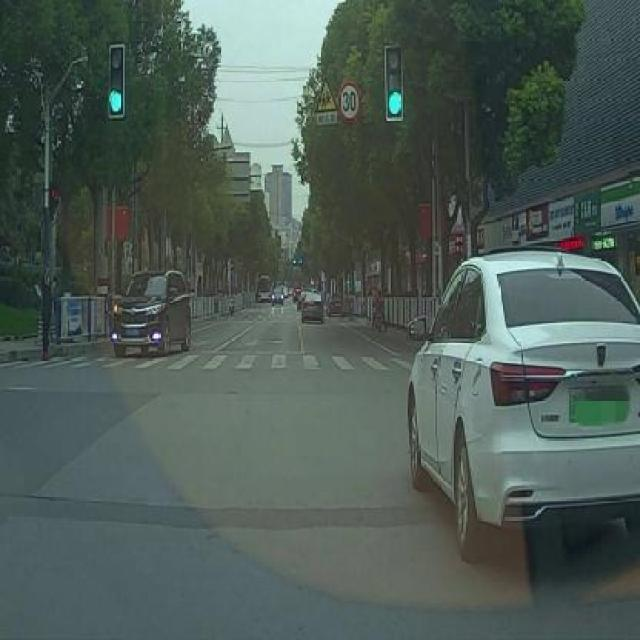forb_speed_over_30: (338, 81, 360, 122)
